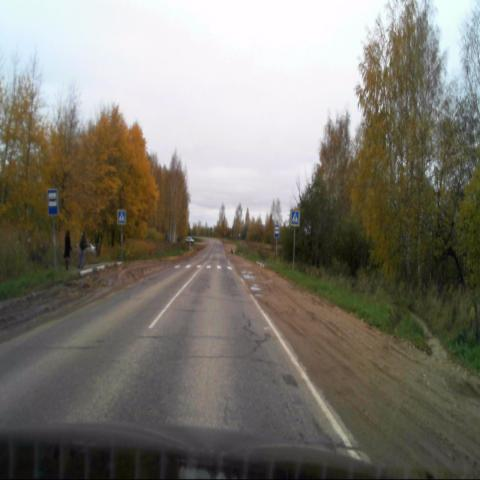5_16: (47, 189, 58, 216)
5_19_1: (290, 209, 300, 227), (117, 210, 126, 226)
